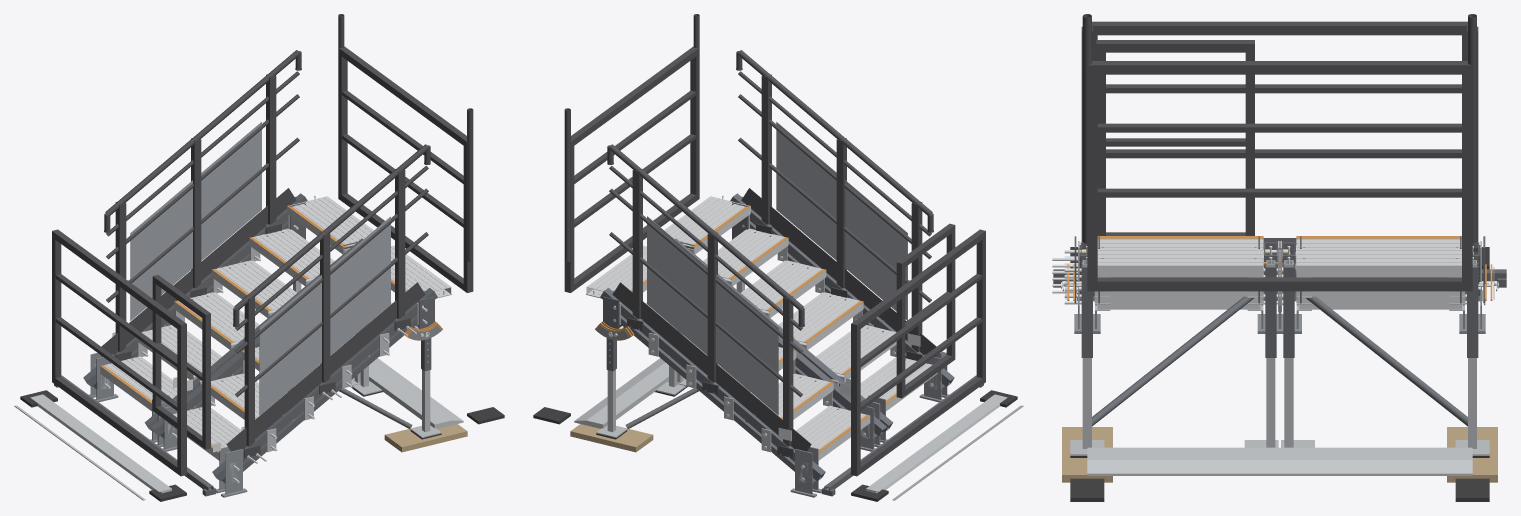
File: full_v2.glb
The picture shows the model from 3 angles, left to right: view 1: azimuth 30°, elevation 25°; view 2: azimuth 150°, elevation 25°; view 3: azimuth 270°, elevation 25°; orthographic projection. The views are drawn at different scales.
Visible parts, largest first — view 1: =>[0:1:1:146], =>[0:1:1:493], =>[0:1:1:612], =>[0:1:1:611], =>[0:1:1:610], =>[0:1:1:142], =>[0:1:1:489], =>[0:1:1:622], =>[0:1:1:616], =>[0:1:1:577], =>[0:1:1:593], =>[0:1:1:4] (+31 smaller); view 2: =>[0:1:1:493], =>[0:1:1:146], =>[0:1:1:612], =>[0:1:1:611], =>[0:1:1:610], =>[0:1:1:489], =>[0:1:1:142], =>[0:1:1:622], =>[0:1:1:616], =>[0:1:1:521], =>[0:1:1:529], =>[0:1:1:545] (+30 smaller); view 3: =>[0:1:1:611], =>[0:1:1:612], =>[0:1:1:622], =>[0:1:1:610], =>[0:1:1:545], =>[0:1:1:593], =>[0:1:1:628], =>[0:1:1:630], =>[0:1:1:148], =>[0:1:1:117], =>[0:1:1:464], =>[0:1:1:495] (+17 smaller).
Part boxes in pixels (<box>): =>[0:1:1:146]: <box>259,216,390,415</box>; =>[0:1:1:493]: <box>130,122,261,320</box>; =>[0:1:1:612]: <box>52,229,186,476</box>; =>[0:1:1:611]: <box>338,46,473,292</box>; =>[0:1:1:610]: <box>152,274,210,449</box>; =>[0:1:1:142]: <box>226,282,425,451</box>; =>[0:1:1:489]: <box>101,188,296,356</box>; =>[0:1:1:622]: <box>369,358,463,428</box>; =>[0:1:1:616]: <box>30,394,171,493</box>; =>[0:1:1:577]: <box>211,260,296,317</box>; =>[0:1:1:593]: <box>287,196,373,254</box>; =>[0:1:1:4]: <box>212,288,437,481</box>; =>[0:1:1:493]: <box>647,216,778,415</box>; =>[0:1:1:146]: <box>776,121,907,320</box>; =>[0:1:1:612]: <box>851,229,985,476</box>; =>[0:1:1:611]: <box>564,46,699,292</box>; =>[0:1:1:610]: <box>896,223,955,398</box>; =>[0:1:1:489]: <box>612,282,811,451</box>; =>[0:1:1:142]: <box>741,188,936,356</box>; =>[0:1:1:622]: <box>574,358,668,428</box>; =>[0:1:1:616]: <box>866,394,1007,493</box>; =>[0:1:1:521]: <box>778,292,863,349</box>; =>[0:1:1:529]: <box>741,260,826,317</box>; =>[0:1:1:545]: <box>664,196,750,254</box>; =>[0:1:1:611]: <box>1087,61,1472,291</box>; =>[0:1:1:612]: <box>1092,21,1467,251</box>; =>[0:1:1:622]: <box>1087,447,1472,475</box>; =>[0:1:1:610]: <box>1096,40,1254,235</box>; =>[0:1:1:545]: <box>1097,238,1263,276</box>; =>[0:1:1:593]: <box>1296,238,1461,276</box>; =>[0:1:1:628]: <box>1092,296,1253,426</box>; =>[0:1:1:630]: <box>1306,296,1467,426</box>; =>[0:1:1:148]: <box>1082,14,1091,243</box>; =>[0:1:1:117]: <box>1062,427,1112,482</box>; =>[0:1:1:464]: <box>1447,427,1497,482</box>; =>[0:1:1:495]: <box>1468,14,1476,243</box>.
Size of the model in its own units: 2.71 by 2.36 by 2.
